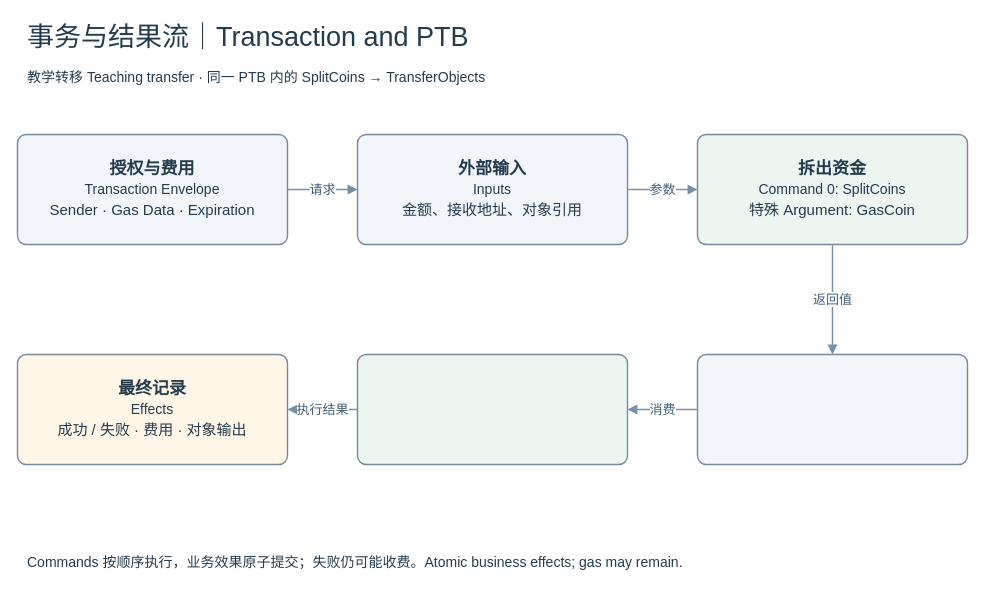
The diagram is 986 pixels wide and 606 high, and some of its shapes have lost their labels. Each missing label, with the centre of its shape:
中间返回值 NestedResult(0, 0) 第 0 条命令的第 0 个结果: (832,409)
转移新 Coin Command 1: TransferObjects 接收地址来自 Pure Input: (492,409)
